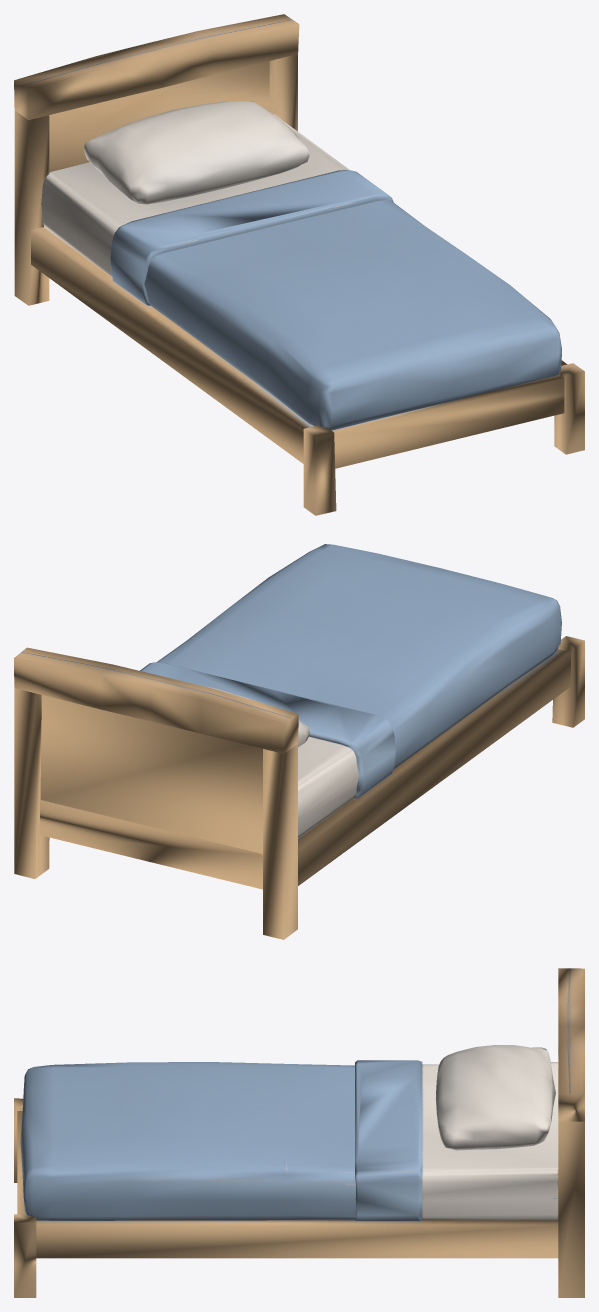
File: bed.fbx
The picture shows the model from 3 angles, top to bottom: view 1: azimuth 30°, elevation 25°; view 2: azimuth 150°, elevation 25°; view 3: azimuth 270°, elevation 25°; orthographic projection. The views are drawn at different scales.
Visible parts, largest first — view 1: Mesh_0; view 2: Mesh_0; view 3: Mesh_0.
Part boxes in pixels (left/top/right/bottom): Mesh_0: left=14, top=14, right=584, bottom=515; Mesh_0: left=14, top=544, right=584, bottom=939; Mesh_0: left=14, top=968, right=584, bottom=1297.
Size of the model in its own units: 49.56 by 38.38 by 95.12.
1 material, 1 textured.
